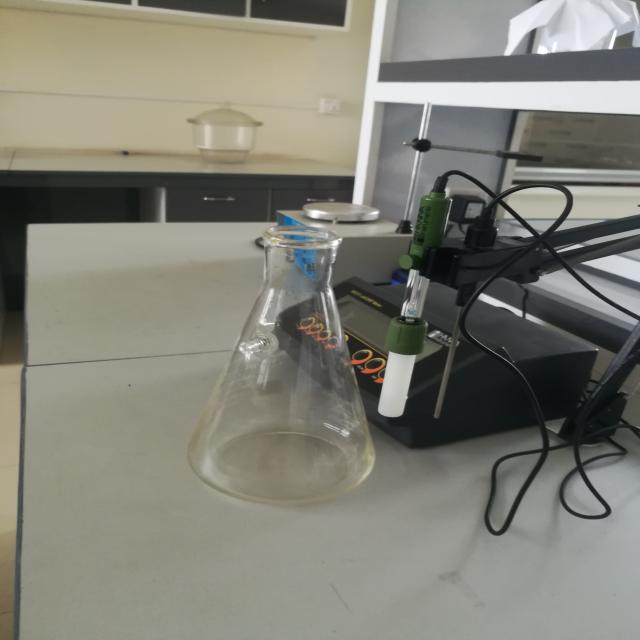Conical_Flask: (151, 202, 433, 537)
